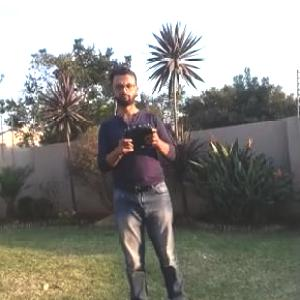follow: (97, 56, 196, 299)
